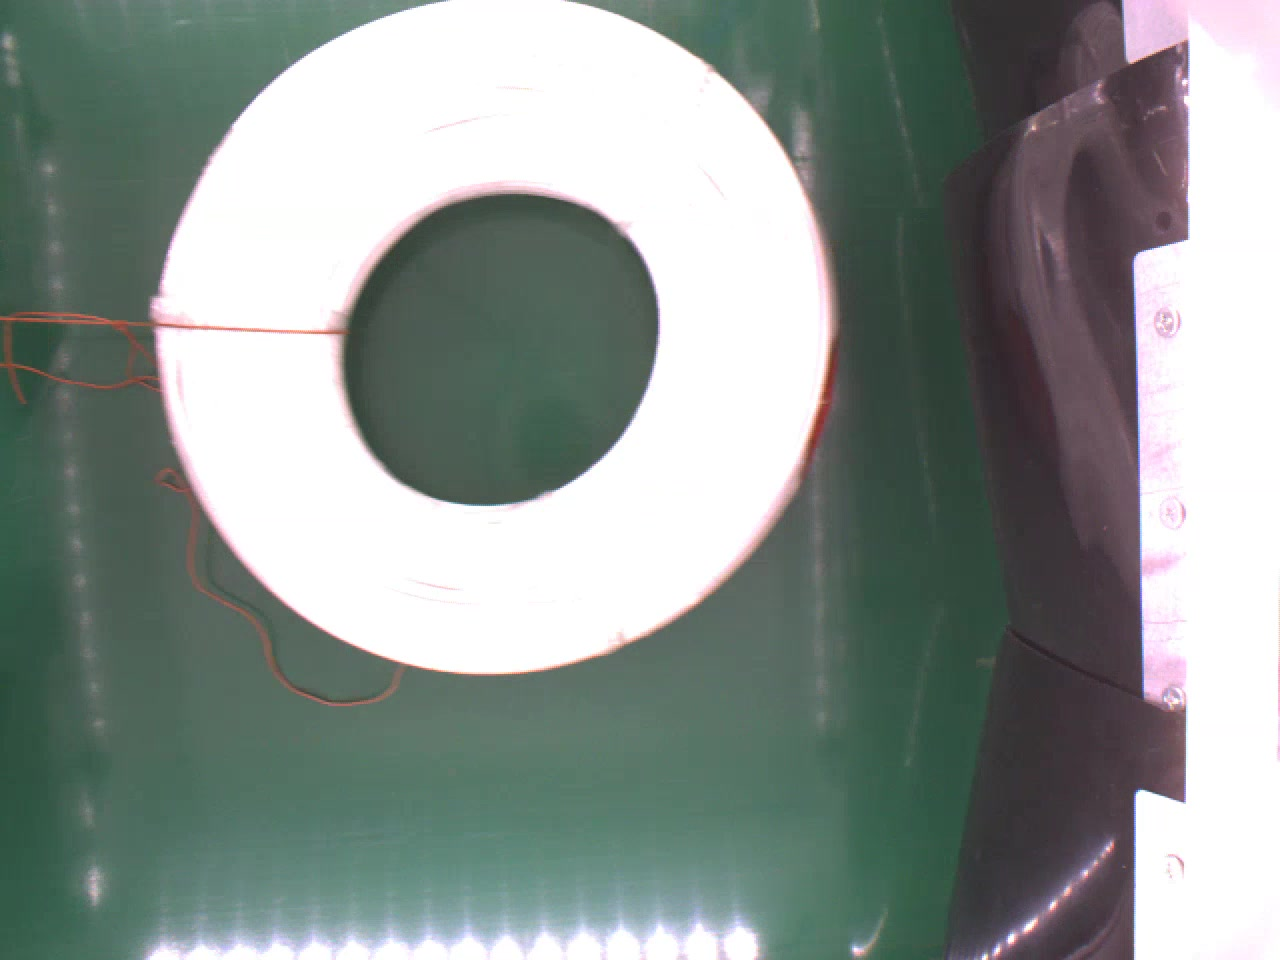white: (153, 1, 831, 672)
